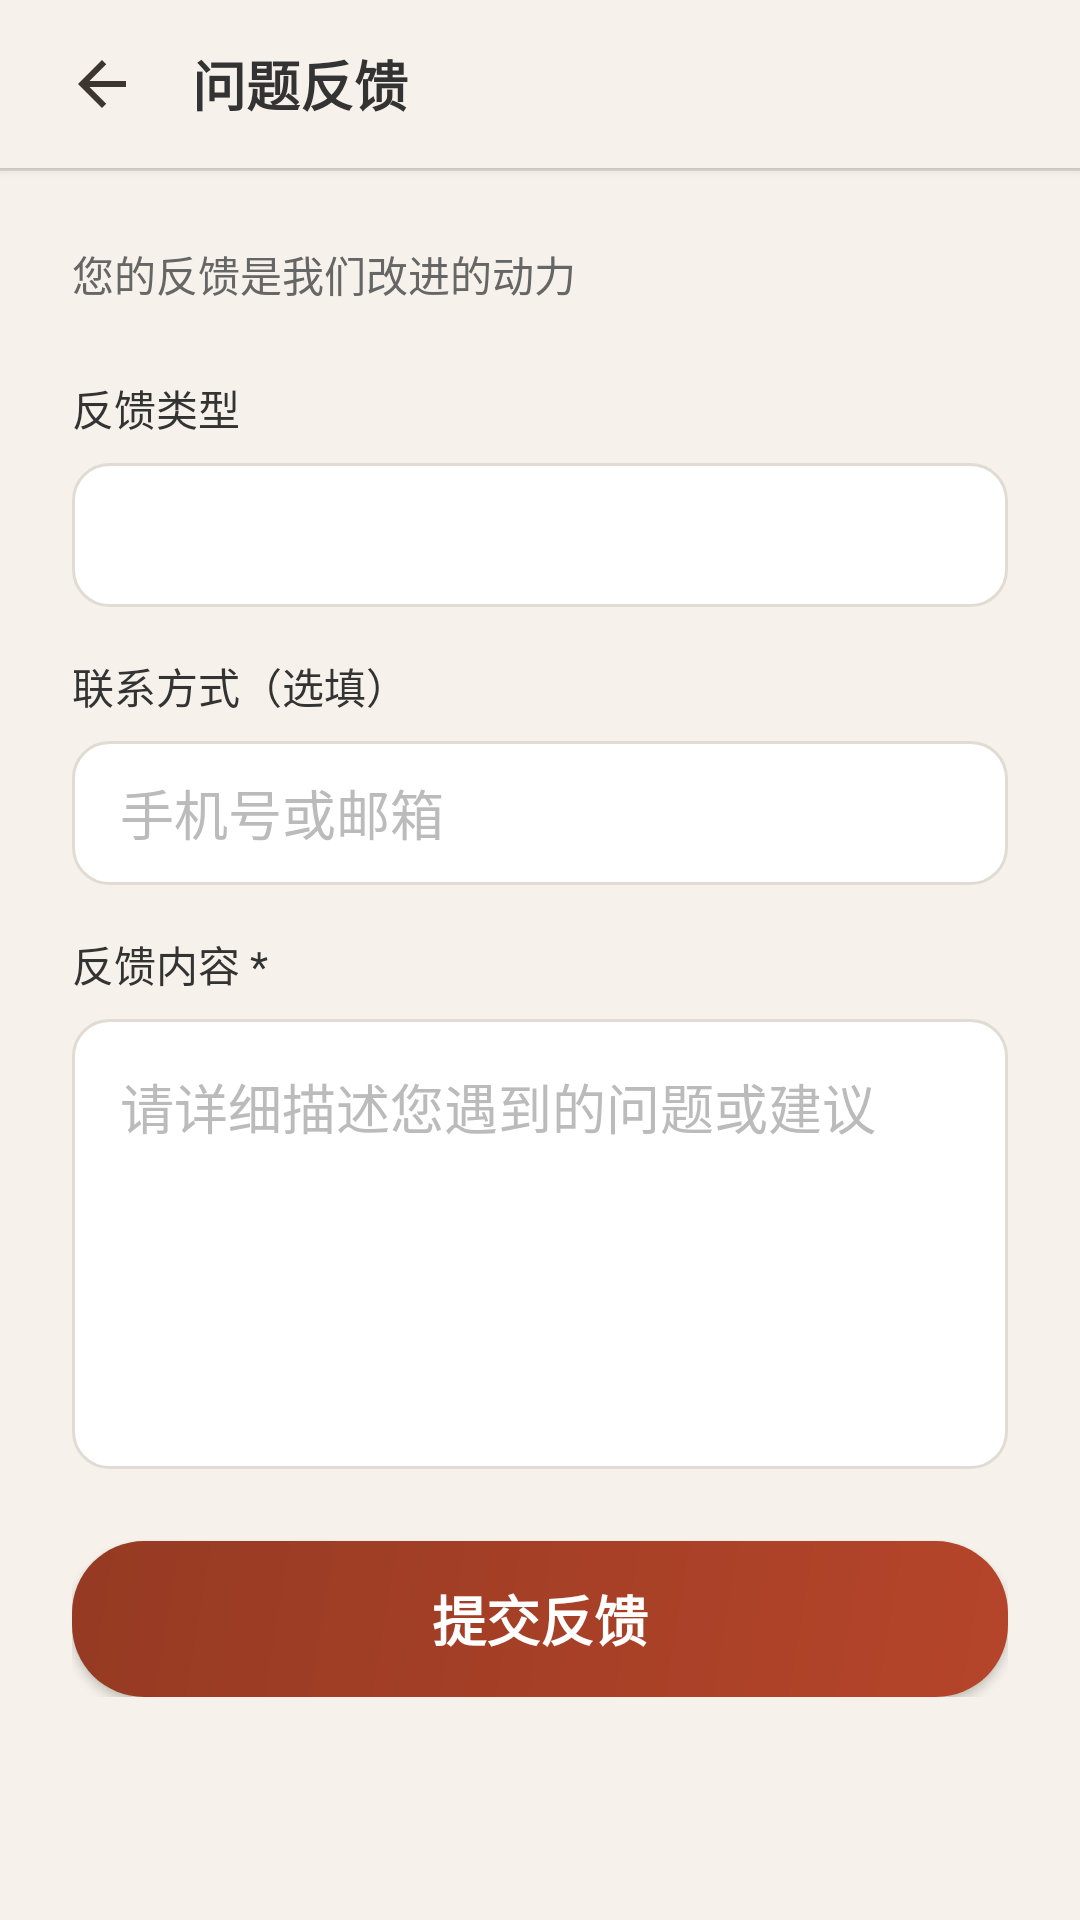

Icons on this 1080 x 1920 Android screen, each with the point to tap as point (x, y):
返回: point (102, 84)
